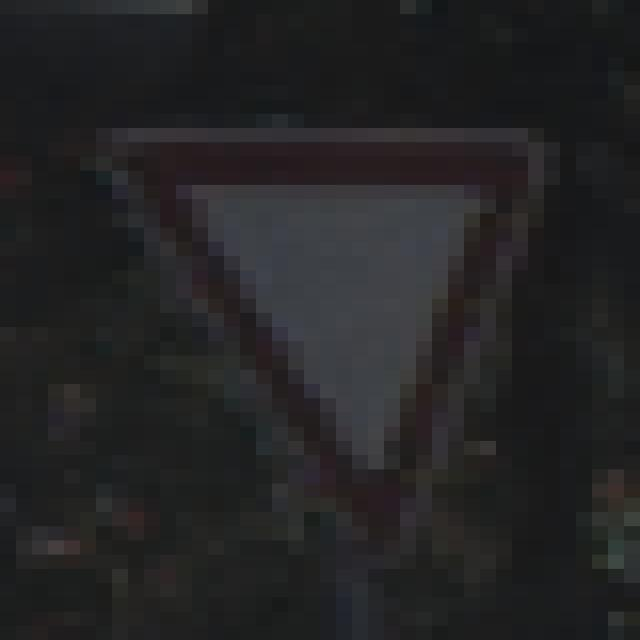Give Way: (81, 86, 561, 570)
